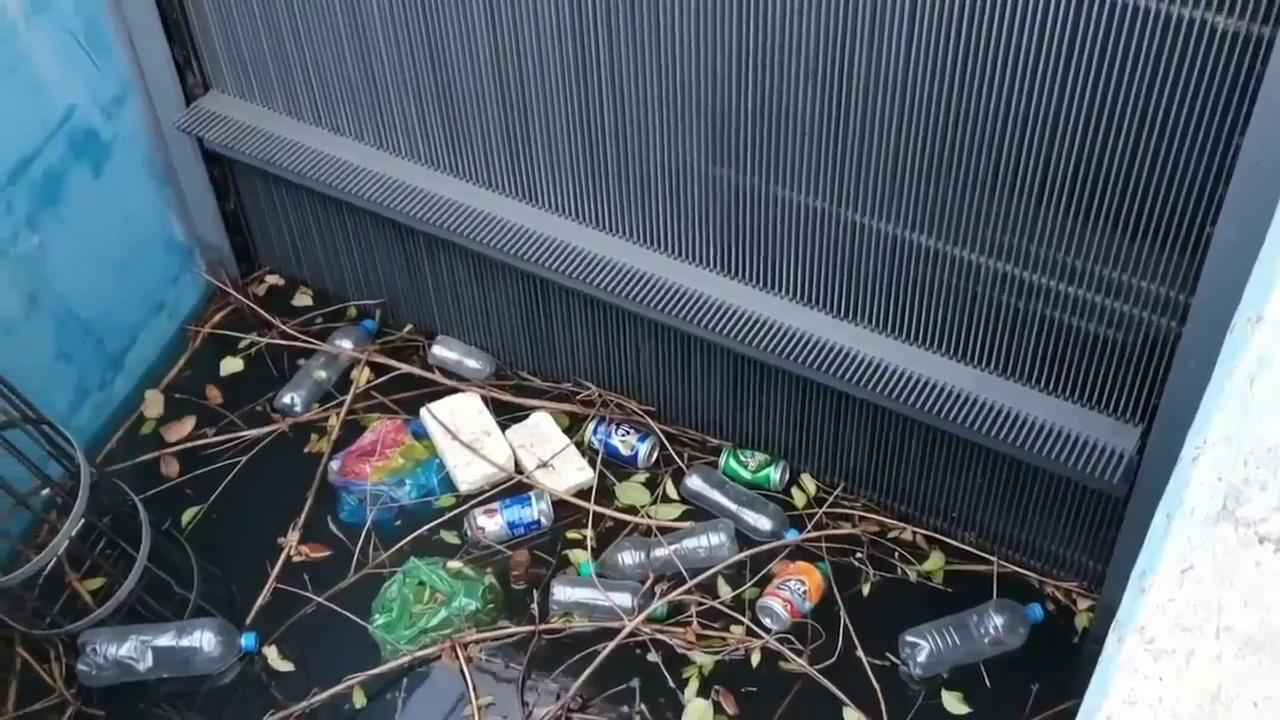debris: (280, 320, 894, 659), (898, 598, 1044, 685), (77, 617, 258, 687)
